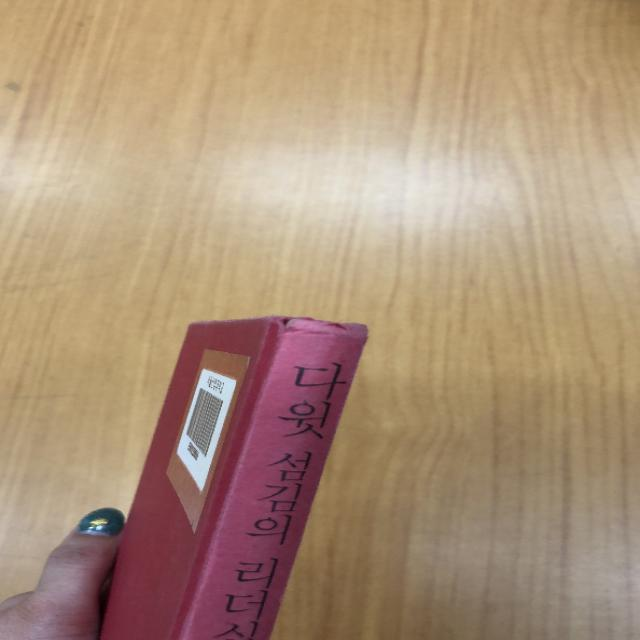Ripped: (267, 310, 352, 348)
